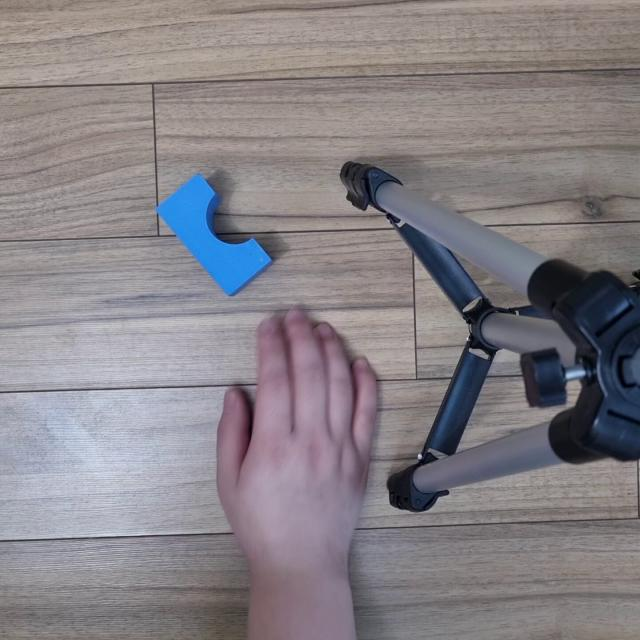block: (167, 172, 271, 294)
hand: (204, 297, 394, 603)
